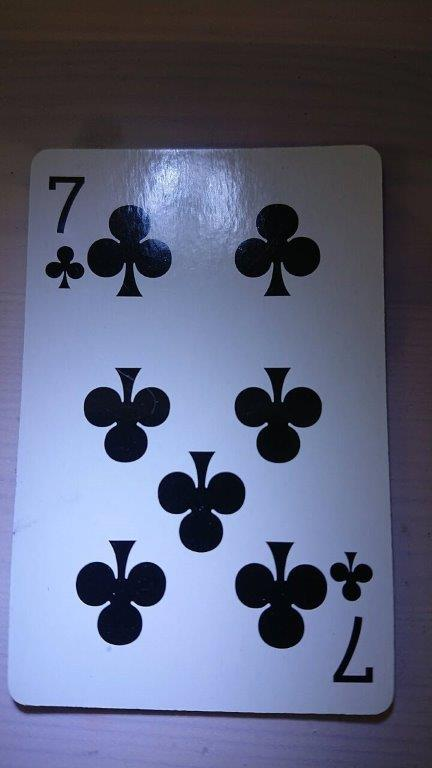7C: (5, 141, 397, 718)
